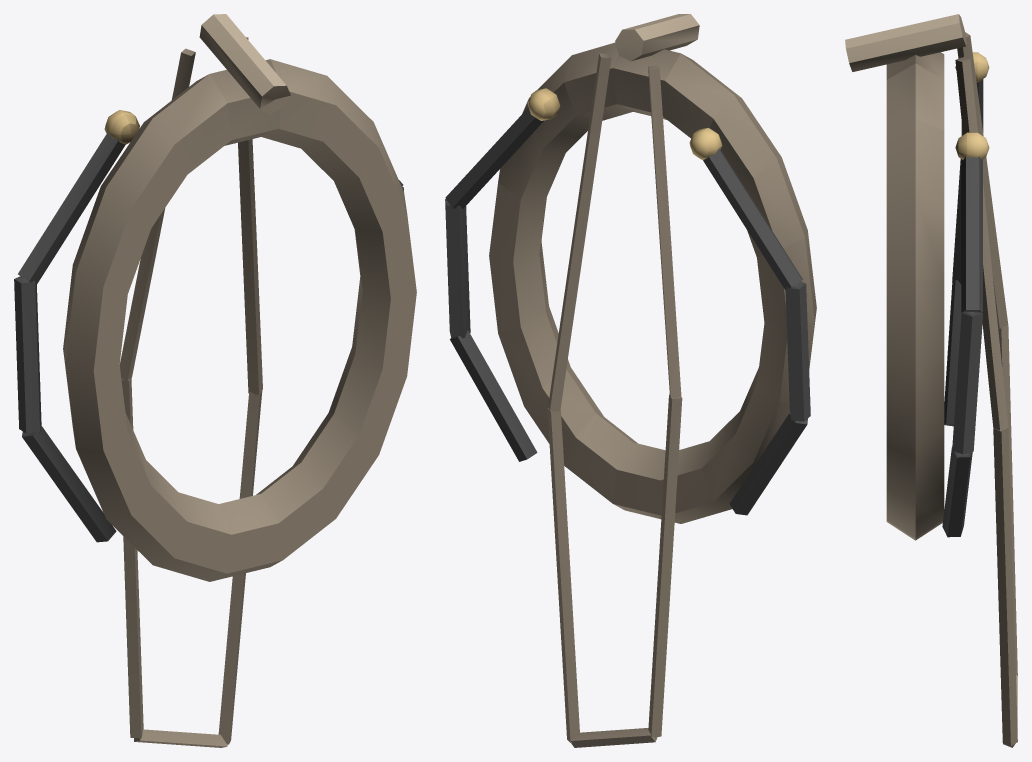
Rendered from harness_peg.glb.
3 renders of one model, left to right at view 1: azimuth 30°, elevation 25°; view 2: azimuth 150°, elevation 25°; view 3: azimuth 270°, elevation 25°, orthographic. The views are drawn at different scales.
Parts seen in each view (by area): view 1: static; view 2: static; view 3: static.
Boxes of the visible parts, <box> form: static: <box>14,14,416,747</box>; static: <box>445,14,816,747</box>; static: <box>845,14,1017,747</box>.
Size of the model in its own units: 0.4422 by 0.8344 by 0.1822.
